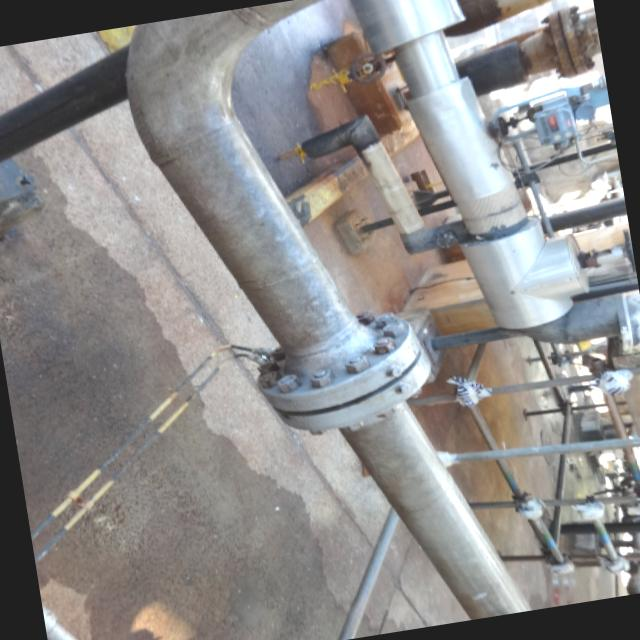gas: (126, 0, 527, 620)
